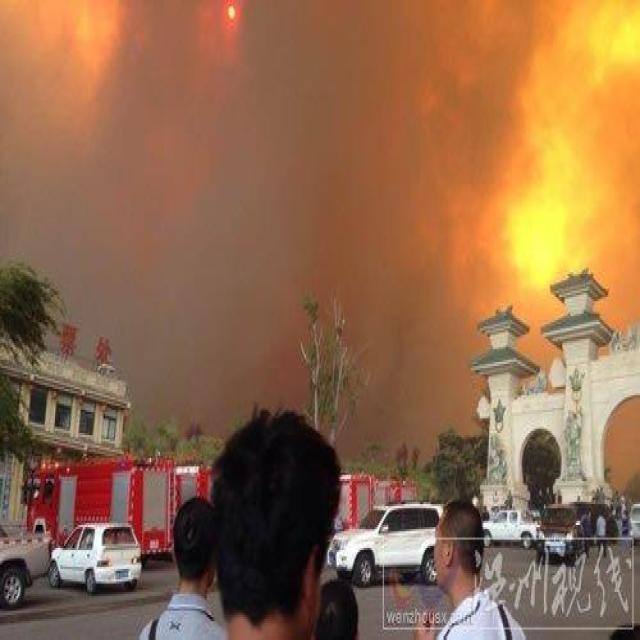smoke: (0, 4, 636, 410)
